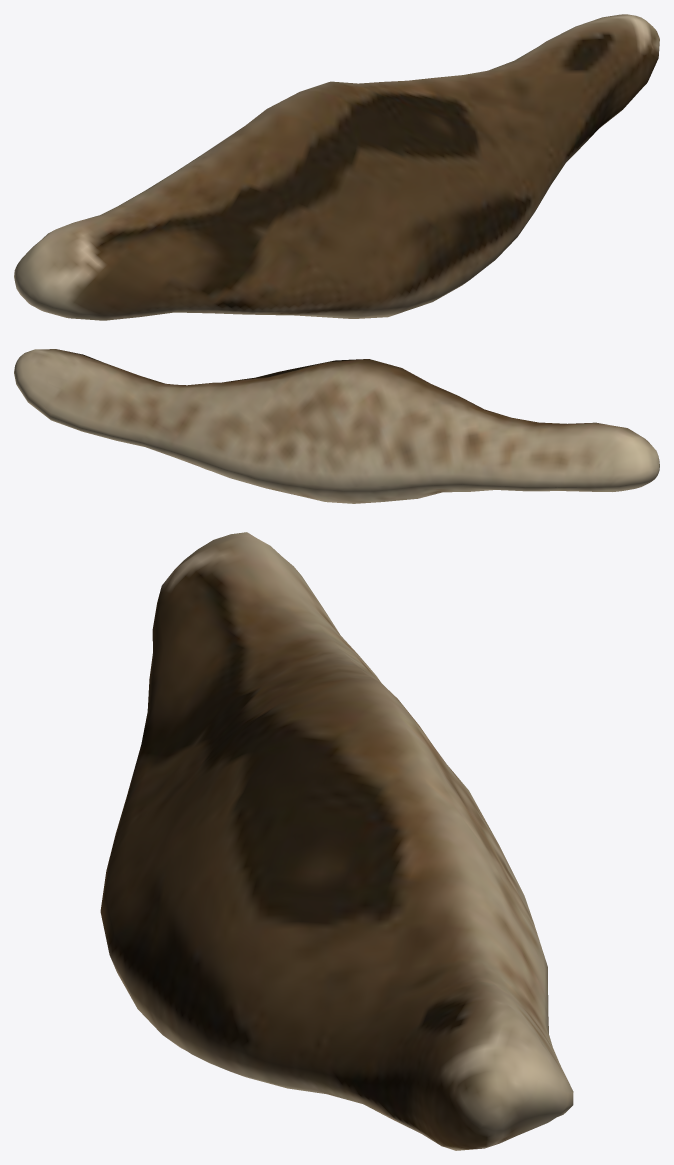
File: Navicular.glb
The picture shows the model from 3 angles, top to bottom: view 1: azimuth 30°, elevation 25°; view 2: azimuth 150°, elevation 25°; view 3: azimuth 270°, elevation 25°; orthographic projection. The views are drawn at different scales.
Parts seen in each view (by area): view 1: L_Bck_Navicular; view 2: L_Bck_Navicular; view 3: L_Bck_Navicular.
Part boxes in pixels (x1,y1,x2,y2): L_Bck_Navicular: (14,14,659,320); L_Bck_Navicular: (14,349,659,503); L_Bck_Navicular: (100,532,573,1150).
Bounding box in the file's own units: 0.0476 × 0.0118 × 0.017.
1 material, 1 textured.
